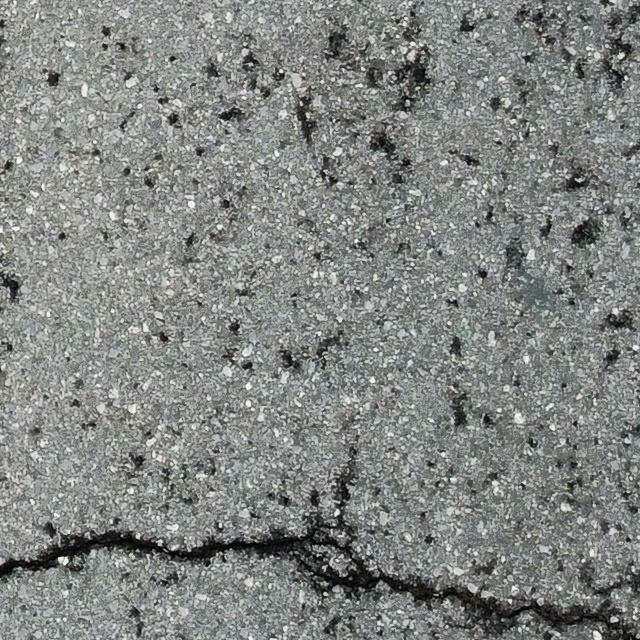TransverseCrack: (1, 524, 640, 640)
